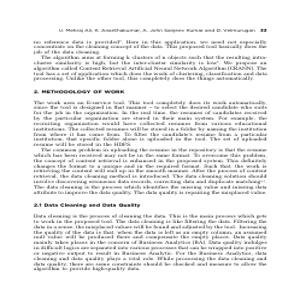text: (21, 26, 273, 274)
